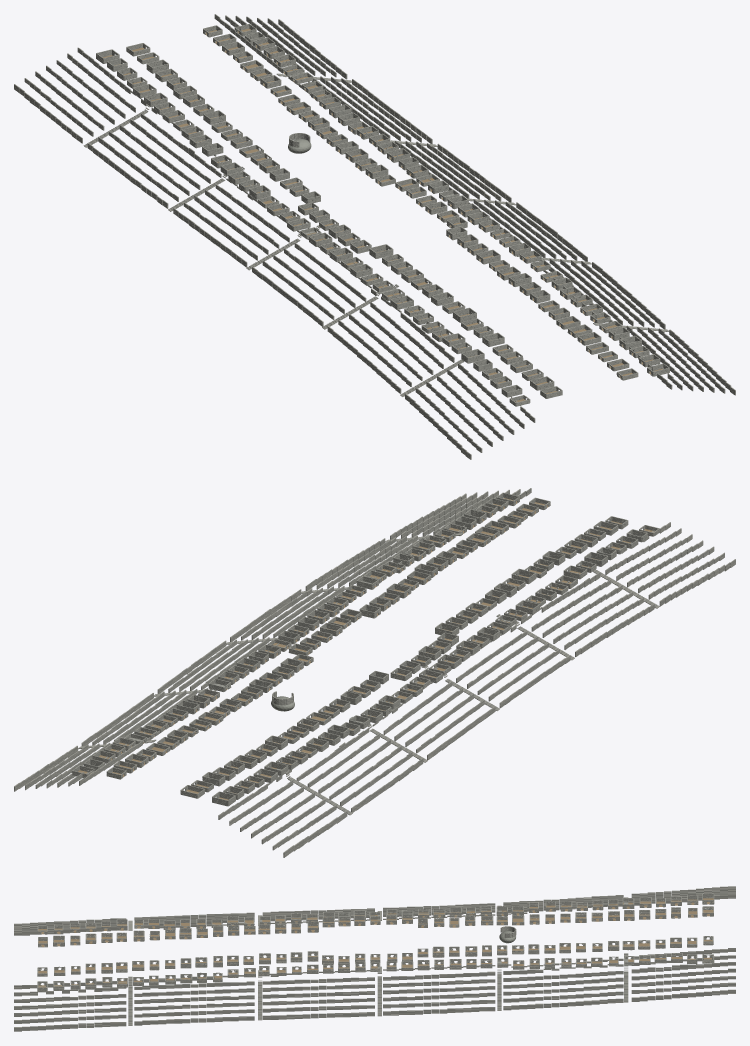
The model's file is Architecture_Interpretive.fbx.
3 renders of one model, top to bottom at view 1: azimuth 30°, elevation 25°; view 2: azimuth 150°, elevation 25°; view 3: azimuth 270°, elevation 25°, orthographic. The views are drawn at different scales.
Visible parts, largest first — view 1: Terrace_-1_7, Terrace_1_7, Terrace_-1_4, Terrace_-1_6, Terrace_-1_3, Terrace_1_6, Terrace_-1_5, Terrace_1_5, Terrace_1_4, Terrace_1_3, Terrace_-1_2, Terrace_1_1; view 2: Terrace_-1_7, Terrace_1_7, Terrace_-1_4, Terrace_-1_3, Terrace_-1_6, Terrace_-1_5, Terrace_1_5, Terrace_1_6, Terrace_1_4, Terrace_-1_2, Terrace_1_3, Terrace_1_1; view 3: Terrace_1_7, Terrace_1_3, Terrace_1_5, Terrace_1_4, Terrace_1_6, Terrace_1_2, Terrace_-1_6, Terrace_-1_7, Terrace_1_1, Terrace_-1_1, Terrace_-1_5, Terrace_-1_2 (+2 smaller).
Boxes of the visible parts, x1,y1,x2,y2 form: Terrace_-1_7: (14,84,471,459); Terrace_1_7: (278,19,735,395); Terrace_-1_4: (46,65,503,440); Terrace_-1_6: (24,78,482,452); Terrace_-1_3: (56,60,514,434); Terrace_1_6: (267,18,725,393); Terrace_-1_5: (35,71,492,446); Terrace_1_5: (257,18,714,392); Terrace_1_4: (246,16,703,391); Terrace_1_3: (235,15,693,391); Terrace_-1_2: (67,53,524,428); Terrace_1_1: (214,14,672,389); Terrace_-1_7: (283,559,735,857); Terrace_1_7: (14,493,466,791); Terrace_-1_4: (251,540,703,838); Terrace_-1_3: (240,534,692,831); Terrace_-1_6: (272,552,724,850); Terrace_-1_5: (261,546,714,844); Terrace_1_5: (35,491,488,788); Terrace_1_6: (25,492,477,790); Terrace_1_4: (46,490,498,788); Terrace_-1_2: (229,528,681,825); Terrace_1_3: (57,489,509,787); Terrace_1_1: (79,488,531,785); Terrace_1_7: (14,989,735,1031); Terrace_1_3: (14,962,735,1002); Terrace_1_5: (14,976,735,1016); Terrace_1_4: (14,968,735,1009); Terrace_1_6: (14,982,735,1023); Terrace_1_2: (14,955,735,996); Terrace_-1_6: (14,887,735,926); Terrace_-1_7: (14,886,735,924); Terrace_1_1: (14,948,735,989); Terrace_-1_1: (14,894,735,935); Terrace_-1_5: (14,888,735,927); Terrace_-1_2: (14,893,735,931).
Bounding box in the file's own units: 18442 × 4552 × 51295.
